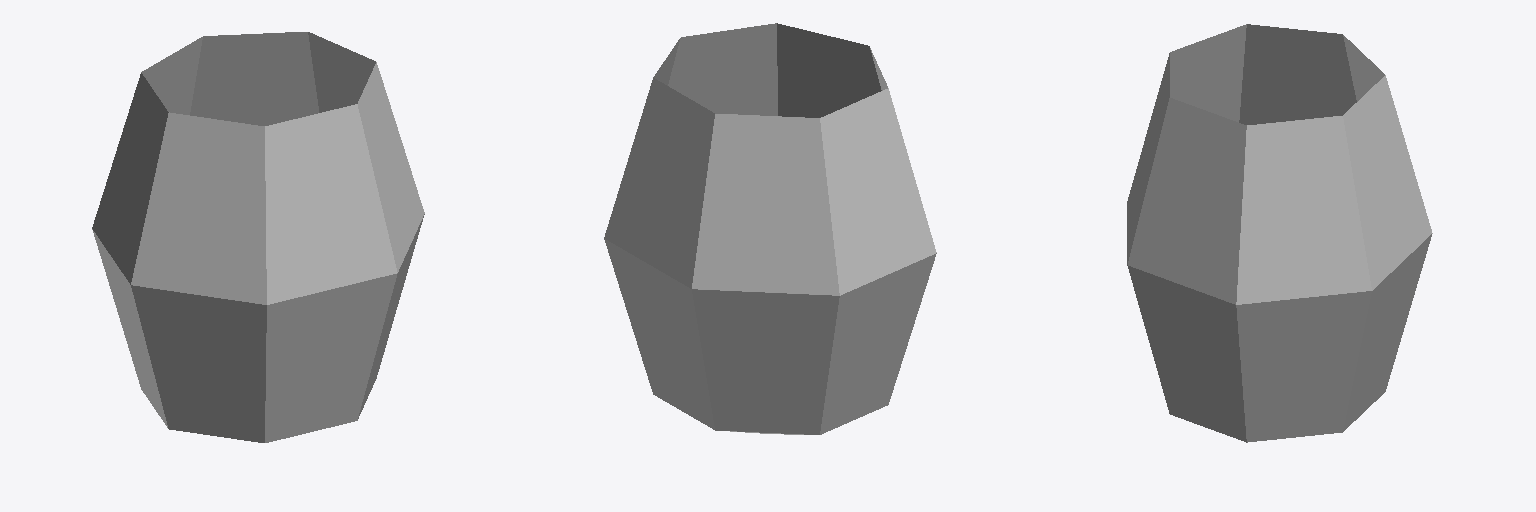
Rendered from fphand.obj.
3 views of the same model, side by side, from view 1: azimuth 30°, elevation 25°; view 2: azimuth 150°, elevation 25°; view 3: azimuth 270°, elevation 25° (orthographic).
Visible parts, largest first — view 1: hand; view 2: hand; view 3: hand.
Part boxes in pixels (left/top/right/bottom): hand: left=92, top=32, right=424, bottom=442; hand: left=604, top=23, right=936, bottom=434; hand: left=1127, top=24, right=1432, bottom=442.
Bounding box in the file's own units: 0.2696 × 0.3175 × 0.2425.